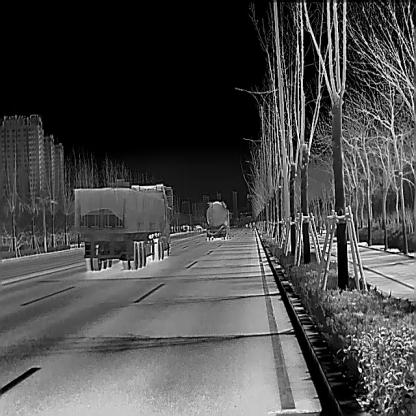car: (192, 223, 202, 231)
truck: (72, 181, 174, 271), (204, 199, 230, 240)
